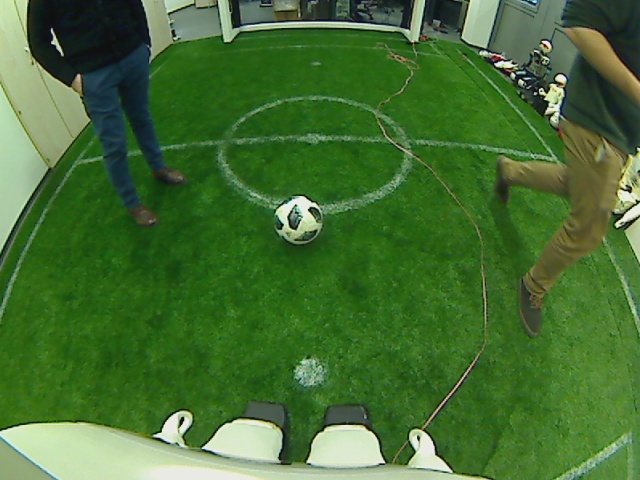ball: (274, 195, 323, 243)
